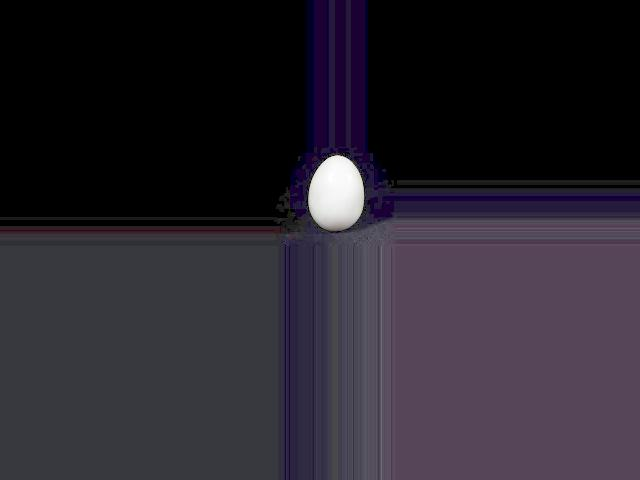egg: (309, 156, 363, 232)
